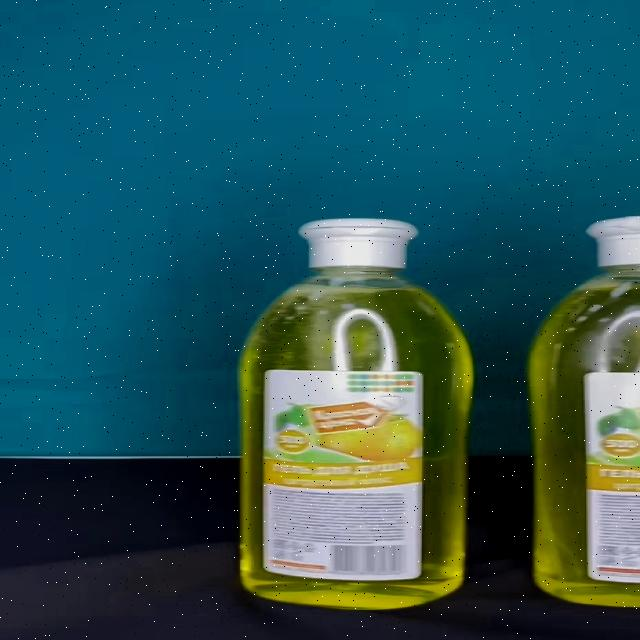Bottle: (238, 219, 475, 610)
Cap: (298, 220, 418, 270)
